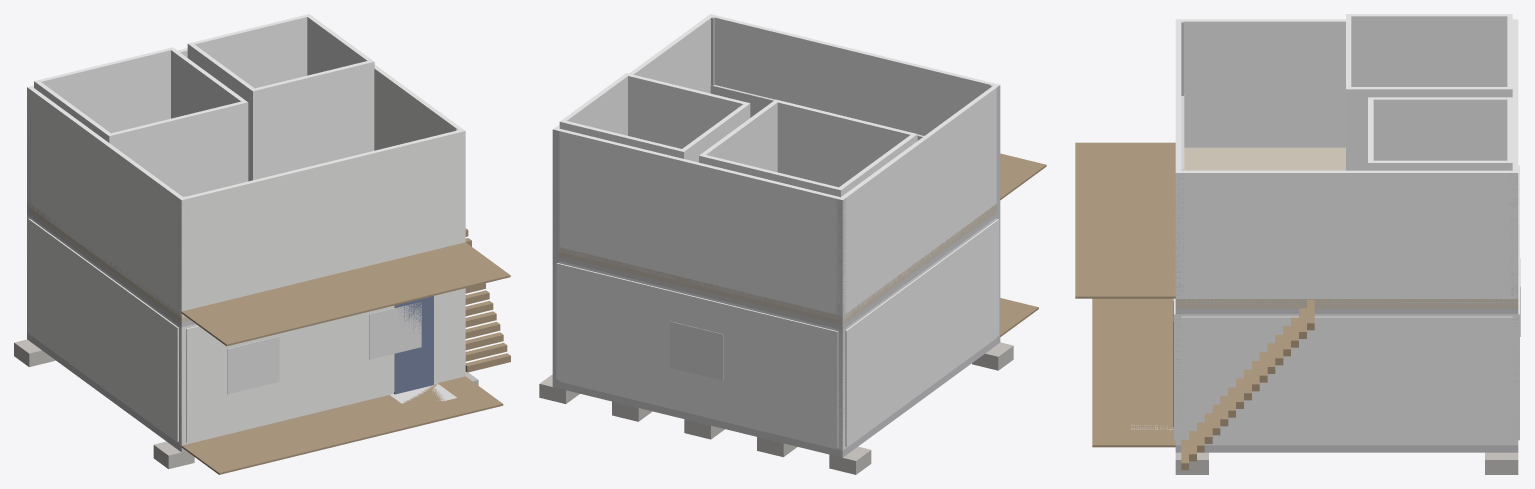
Rendered from Duplex-20-Village-LOD1.glb.
The picture shows the model from 3 angles, left to right: view 1: azimuth 30°, elevation 25°; view 2: azimuth 150°, elevation 25°; view 3: azimuth 270°, elevation 25°; orthographic projection. The views are drawn at different scales.
Visible parts, largest first — view 1: ExteriorShellUpper, ExteriorPanelsStandard, StudyUpper, BedroomUpper, BalconyUpper, BalconyGround, WindowsStandard, StaircaseExternal, EntryDoor, ExteriorShell, FoundationBlocks, BaseFrame (+4 smaller); view 2: ExteriorShellUpper, ExteriorPanelsStandard, BedroomUpper, StudyUpper, VerticalStructure, FloorUpper, FoundationBlocks, BaseFrame, ExteriorShell, WindowsStandard, TopFrame, BalconyUpper (+2 smaller); view 3: ExteriorShellUpper, ExteriorPanelsStandard, BalconyUpper, BedroomUpper, BalconyGround, StudyUpper, FloorUpper, StaircaseExternal, ExteriorShell, BaseFrame, TopFrame, FoundationBlocks (+1 smaller).
Part boxes in pixels (bbox=[...]): ExteriorShellUpper: bbox=[27, 48, 465, 317]; ExteriorPanelsStandard: bbox=[28, 218, 461, 442]; StudyUpper: bbox=[187, 14, 374, 181]; BedroomUpper: bbox=[34, 47, 248, 196]; BalconyUpper: bbox=[181, 242, 510, 346]; BalconyGround: bbox=[181, 376, 503, 474]; WindowsStandard: bbox=[227, 303, 421, 394]; StaircaseExternal: bbox=[465, 228, 510, 372]; EntryDoor: bbox=[394, 296, 433, 394]; ExteriorShell: bbox=[27, 214, 465, 445]; FoundationBlocks: bbox=[14, 339, 478, 469]; BaseFrame: bbox=[27, 333, 186, 452]; ExteriorShellUpper: bbox=[553, 14, 999, 320]; ExteriorPanelsStandard: bbox=[556, 219, 999, 447]; BedroomUpper: bbox=[699, 99, 917, 197]; StudyUpper: bbox=[559, 73, 750, 162]; VerticalStructure: bbox=[552, 17, 1000, 449]; FloorUpper: bbox=[553, 204, 996, 325]; FoundationBlocks: bbox=[539, 342, 1013, 474]; BaseFrame: bbox=[552, 336, 1000, 457]; ExteriorShell: bbox=[553, 218, 996, 450]; WindowsStandard: bbox=[670, 321, 723, 380]; TopFrame: bbox=[559, 213, 996, 329]; BalconyUpper: bbox=[1000, 153, 1046, 199]; ExteriorShellUpper: bbox=[1175, 19, 1518, 303]; ExteriorPanelsStandard: bbox=[1174, 165, 1519, 443]; BalconyUpper: bbox=[1075, 142, 1175, 298]; BedroomUpper: bbox=[1346, 14, 1512, 170]; BalconyGround: bbox=[1092, 298, 1175, 447]; StudyUpper: bbox=[1368, 97, 1512, 170]; FloorUpper: bbox=[1175, 147, 1518, 308]; StaircaseExternal: bbox=[1181, 299, 1314, 470]; ExteriorShell: bbox=[1175, 314, 1518, 445]; BaseFrame: bbox=[1175, 445, 1518, 452]; TopFrame: bbox=[1175, 309, 1518, 313]; FoundationBlocks: bbox=[1175, 452, 1518, 474].
Size of the model in its own units: 7.94 by 6 by 8.
